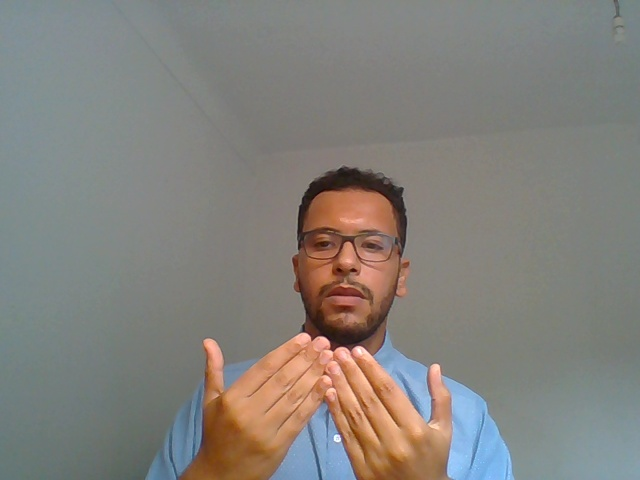thanks: (146, 318, 526, 480)
